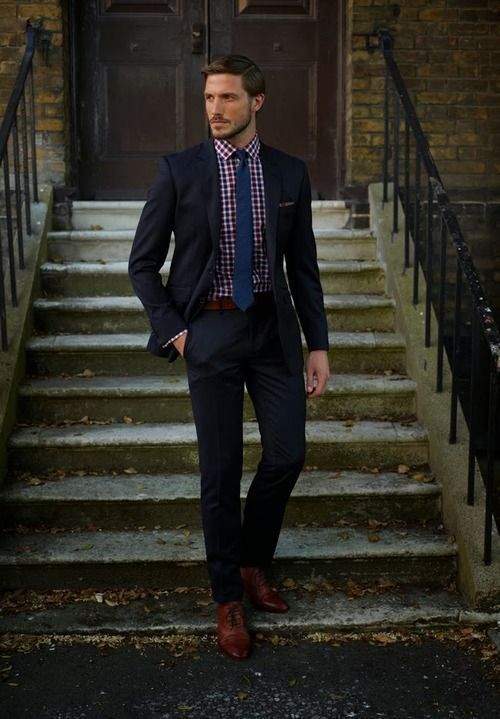F_M_suit jacket: (131, 140, 332, 339)
F_belt: (193, 290, 290, 317)
F_dress pants: (186, 304, 305, 587)
F_tie: (229, 147, 263, 317)
